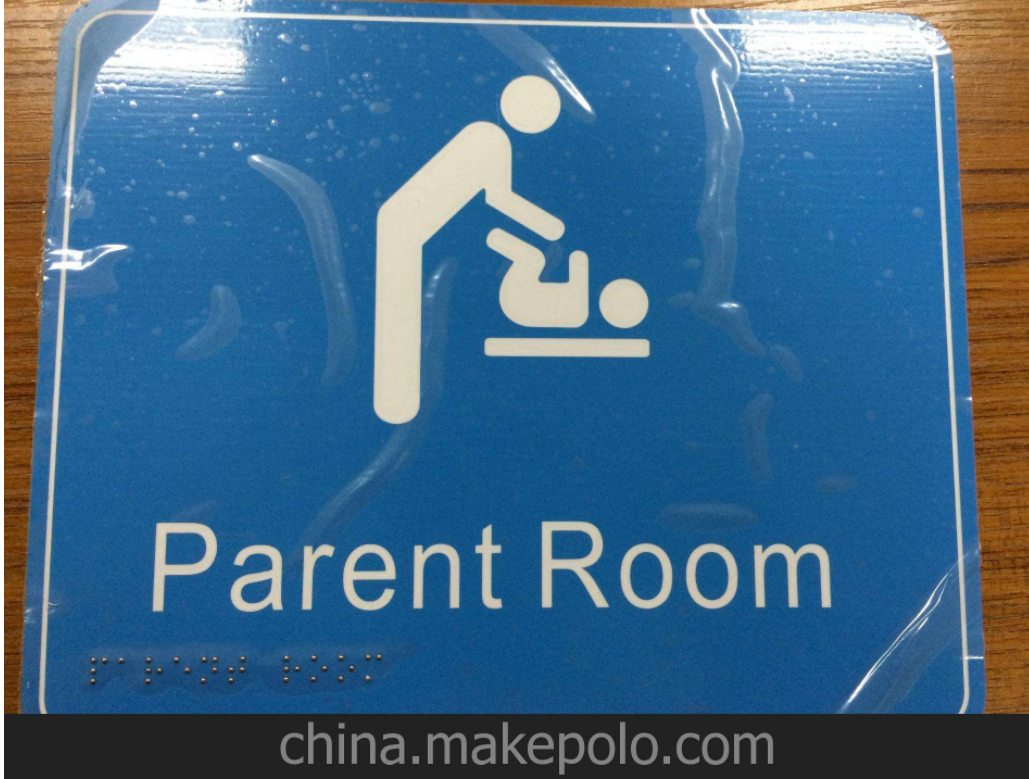Braille: (139, 653, 166, 689), (276, 650, 302, 687), (360, 650, 385, 688), (223, 651, 248, 687), (333, 650, 356, 686), (199, 652, 222, 687), (115, 653, 139, 686), (171, 653, 193, 688), (90, 653, 111, 689), (309, 651, 329, 687)
